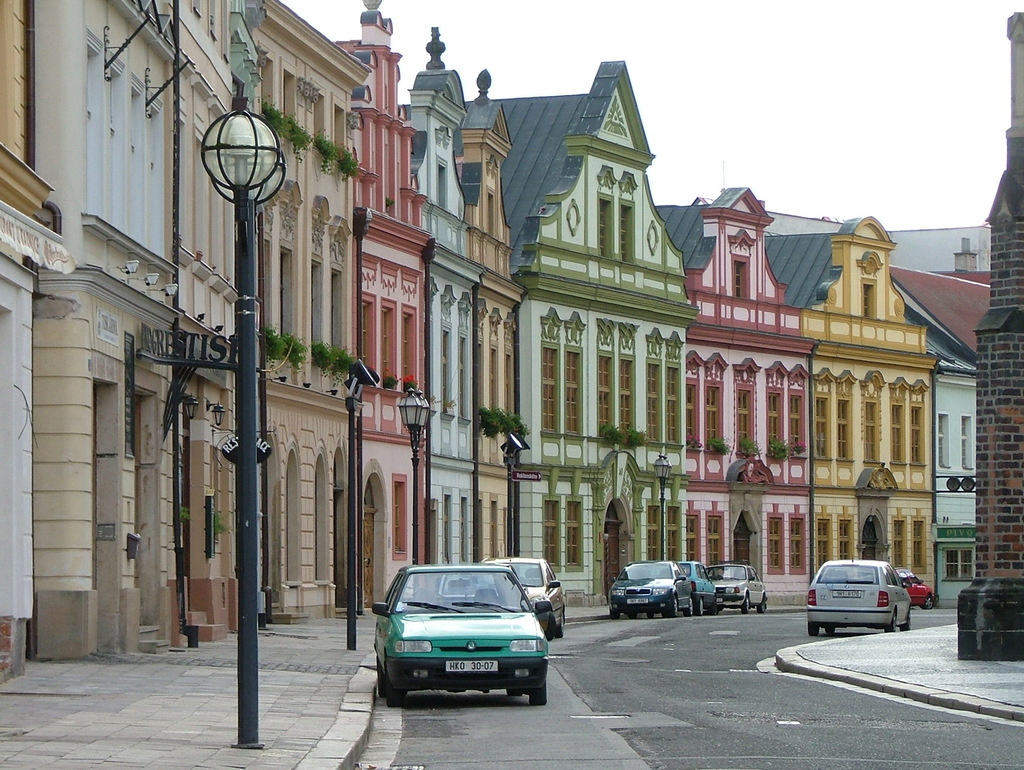Car: (368, 556, 938, 704)
